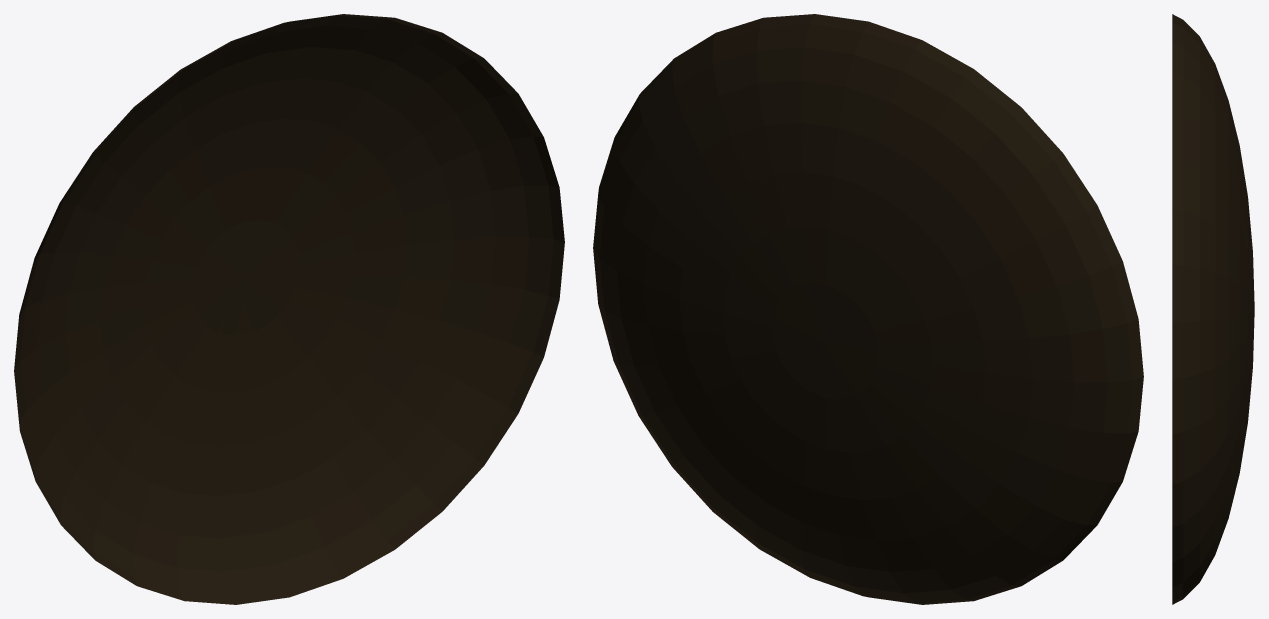
Rendered from lens44obj.obj.
The picture shows the model from 3 angles, left to right: view 1: azimuth 30°, elevation 25°; view 2: azimuth 150°, elevation 25°; view 3: azimuth 270°, elevation 25°; orthographic projection. The views are drawn at different scales.
Parts seen in each view (by area): view 1: lens_left_Sphere; view 2: lens_left_Sphere; view 3: lens_left_Sphere.
Part boxes in pixels (x1,y1,x2,y2): lens_left_Sphere: [14, 14, 564, 604]; lens_left_Sphere: [593, 14, 1143, 604]; lens_left_Sphere: [1172, 14, 1254, 604].
Size of the model in its own units: 0.00824 by 0.00824 by 0.00115.
